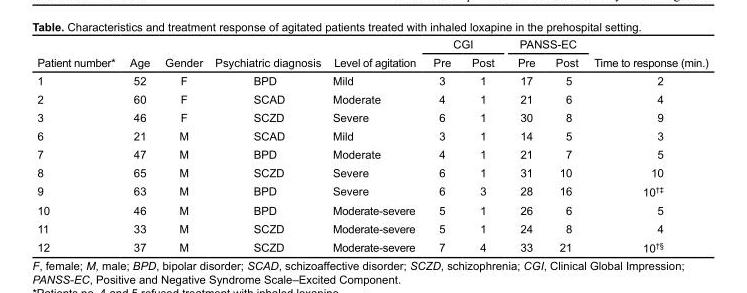table: (36, 37, 707, 253)
table column: (585, 37, 707, 253), (208, 37, 326, 253), (326, 37, 423, 253), (36, 37, 121, 253), (156, 37, 208, 253), (460, 37, 505, 253), (544, 37, 585, 253), (505, 37, 544, 253), (423, 37, 460, 253), (121, 37, 156, 253)
table column header: (36, 37, 707, 71)
table row: (36, 52, 707, 71), (36, 107, 707, 126), (36, 144, 707, 163), (36, 181, 707, 200), (36, 200, 707, 219), (36, 71, 707, 89), (36, 89, 707, 107), (36, 126, 707, 144), (36, 163, 707, 181), (36, 219, 707, 237), (36, 237, 707, 253), (36, 37, 707, 52)
table spanning cell: (585, 37, 707, 71), (208, 37, 326, 71), (326, 37, 423, 71), (36, 37, 121, 71), (156, 37, 208, 71), (423, 37, 505, 52), (505, 37, 585, 52), (121, 37, 156, 71)
